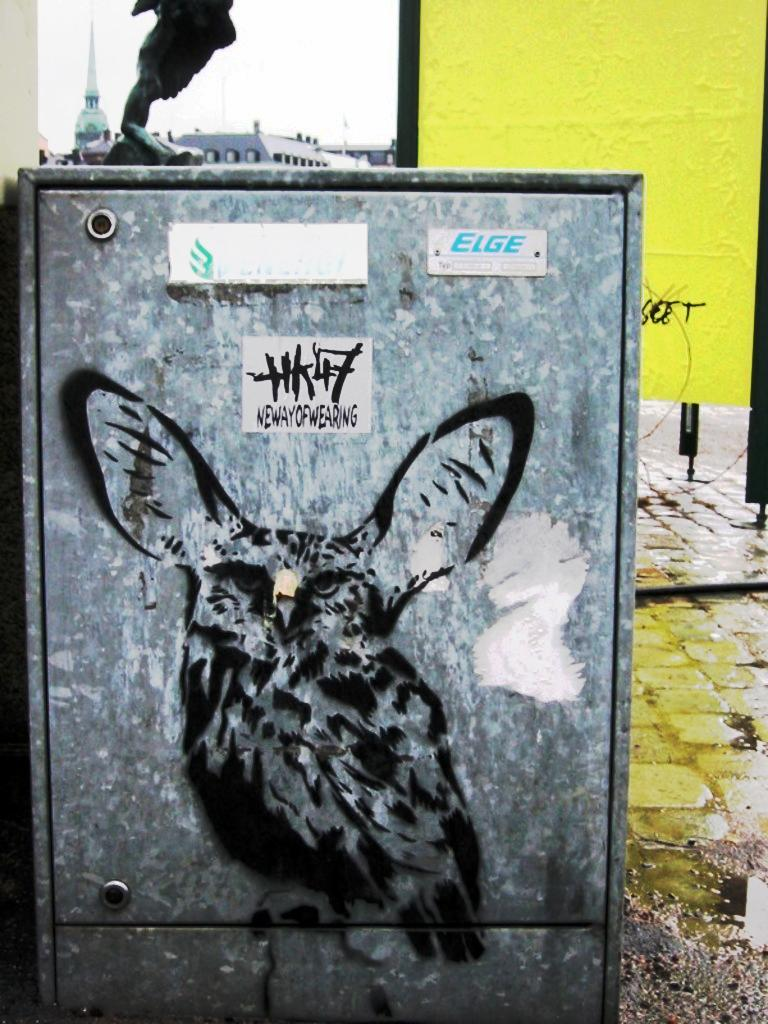Owl: (59, 366, 526, 1023)
